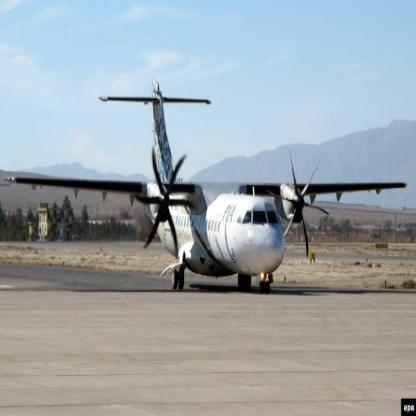CIV_Plane: (0, 76, 409, 298)
